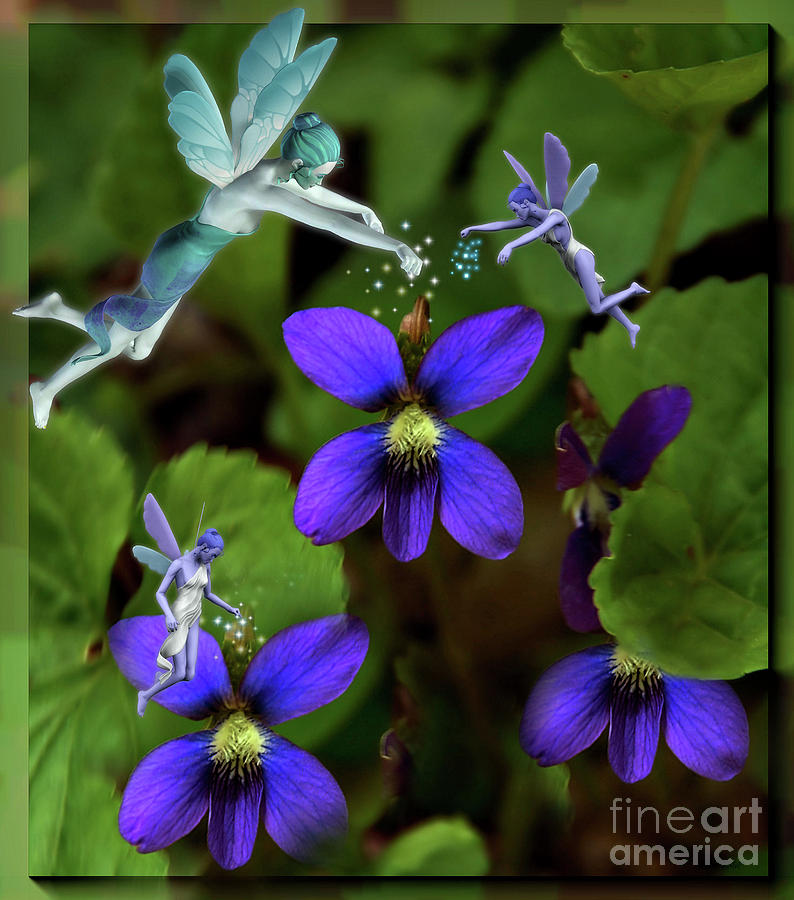violet: (248, 284, 553, 549), (82, 608, 384, 867), (554, 554, 752, 796)
